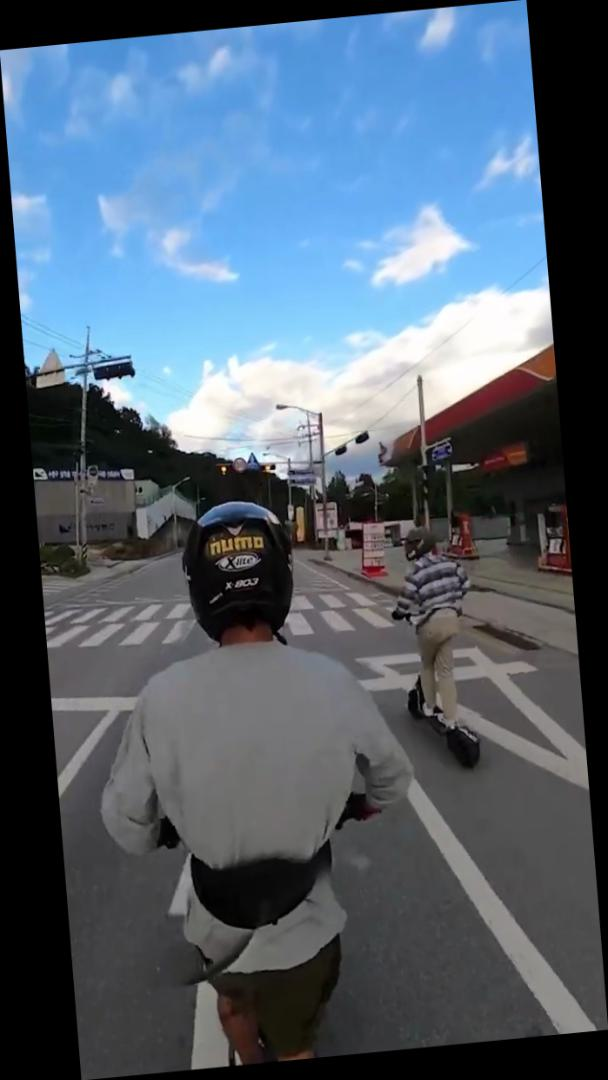helmet: (74, 482, 438, 1077), (384, 517, 485, 775)
